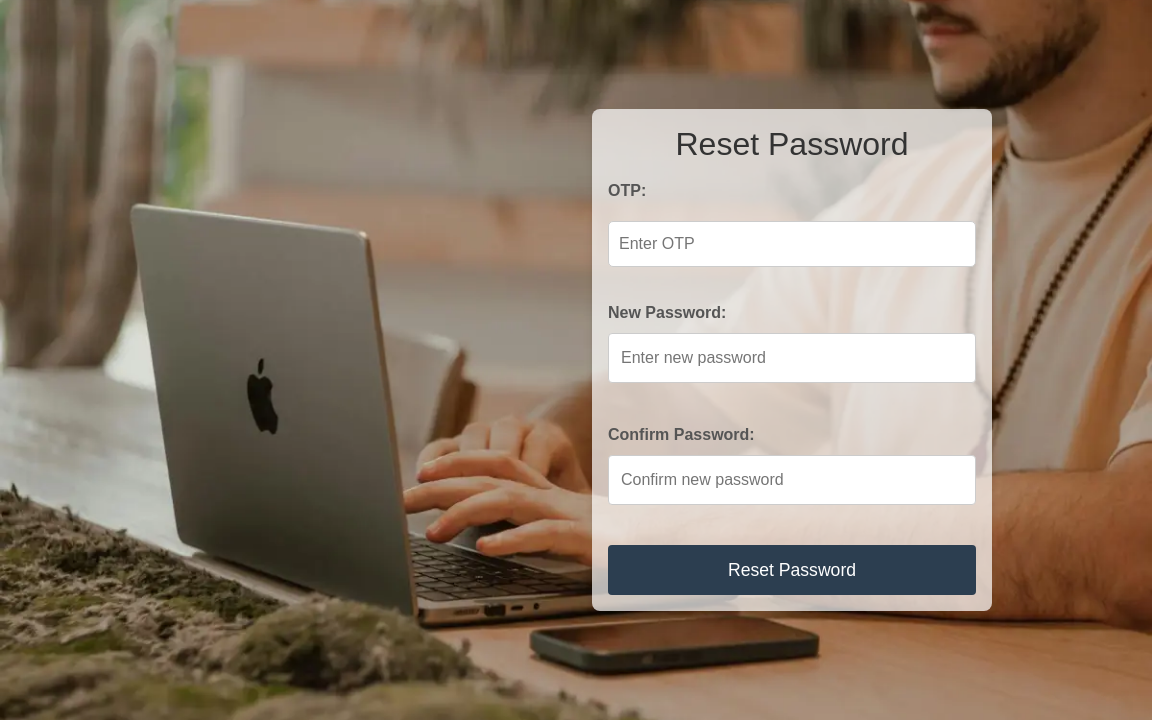
Test case: ResetPassword Component › should show error message for mismatched passwords
Type "12345" into the field with placeholder "Enter OTP" at (792, 244), box [608,221,976,267]
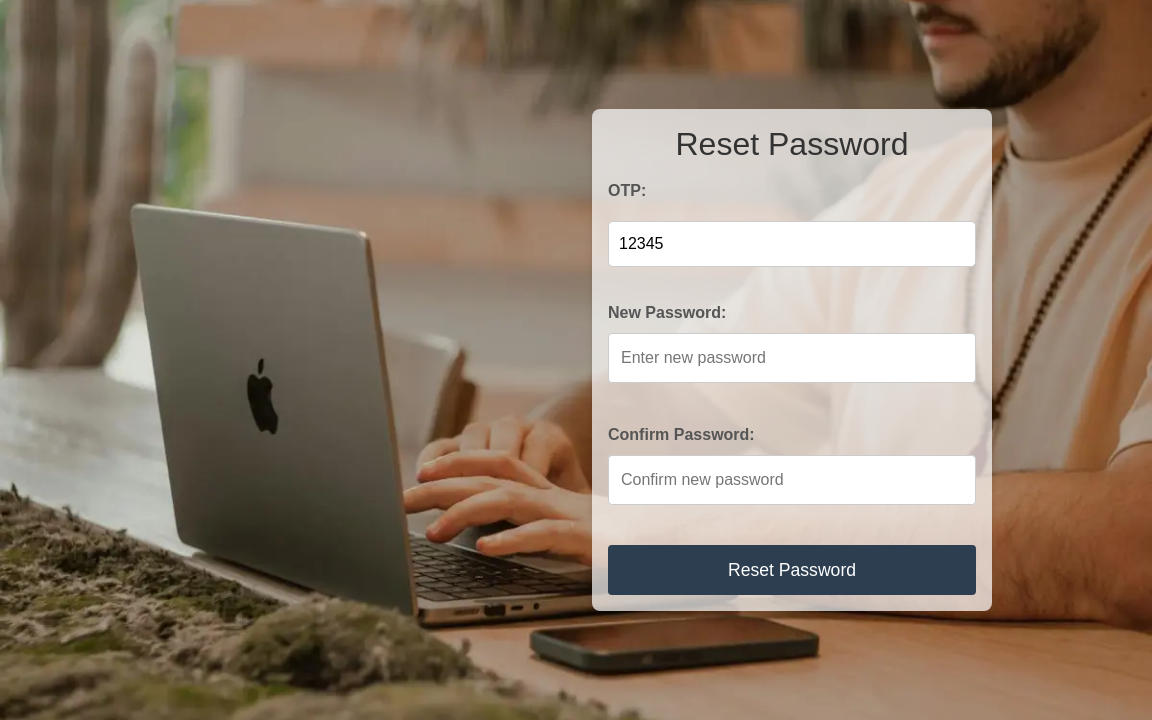
Type "NewPassword@123" into the password field with placeholder "Enter new password" at (792, 358), box [608,333,976,383]
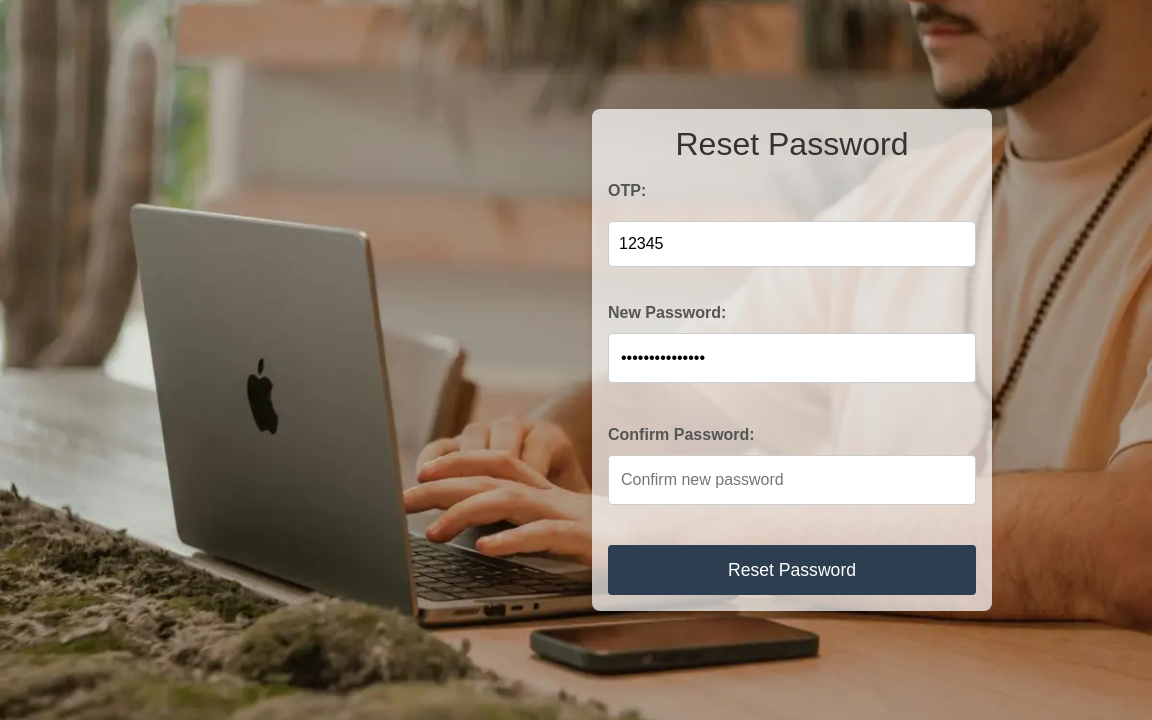
Type "NewPassword@124" into the password field with placeholder "Confirm new password" at (792, 480), box [608,455,976,505]
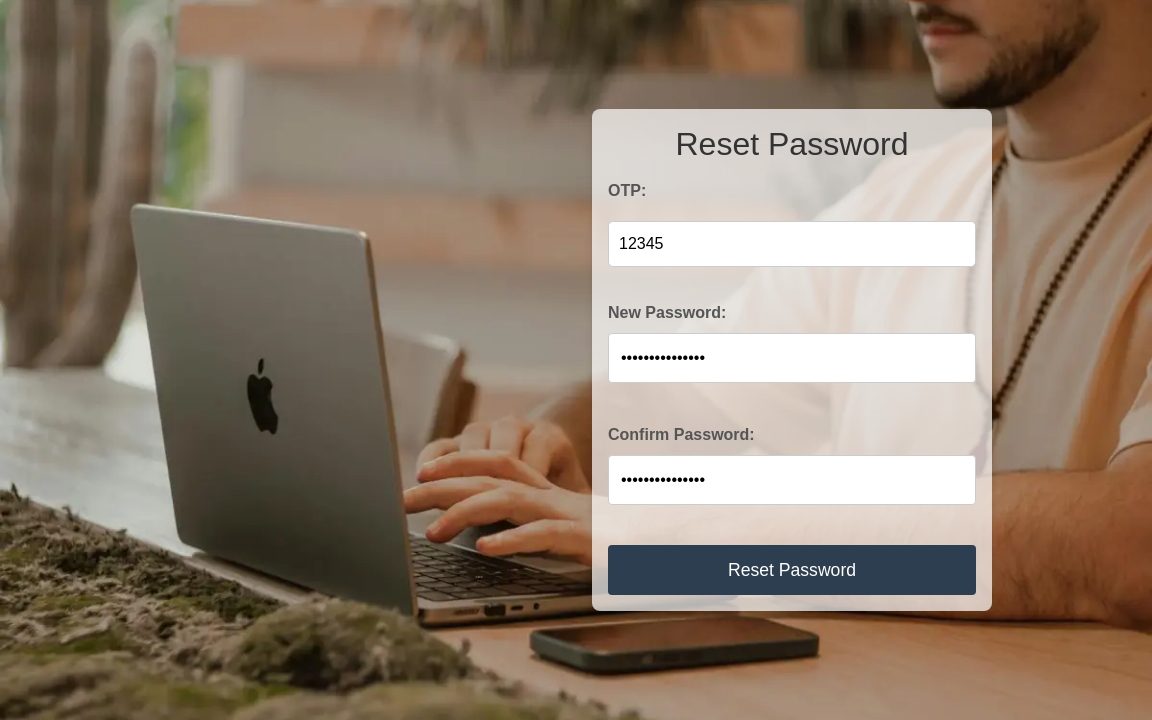
Click the button "Reset Password" at (792, 570), box [608,545,976,595]
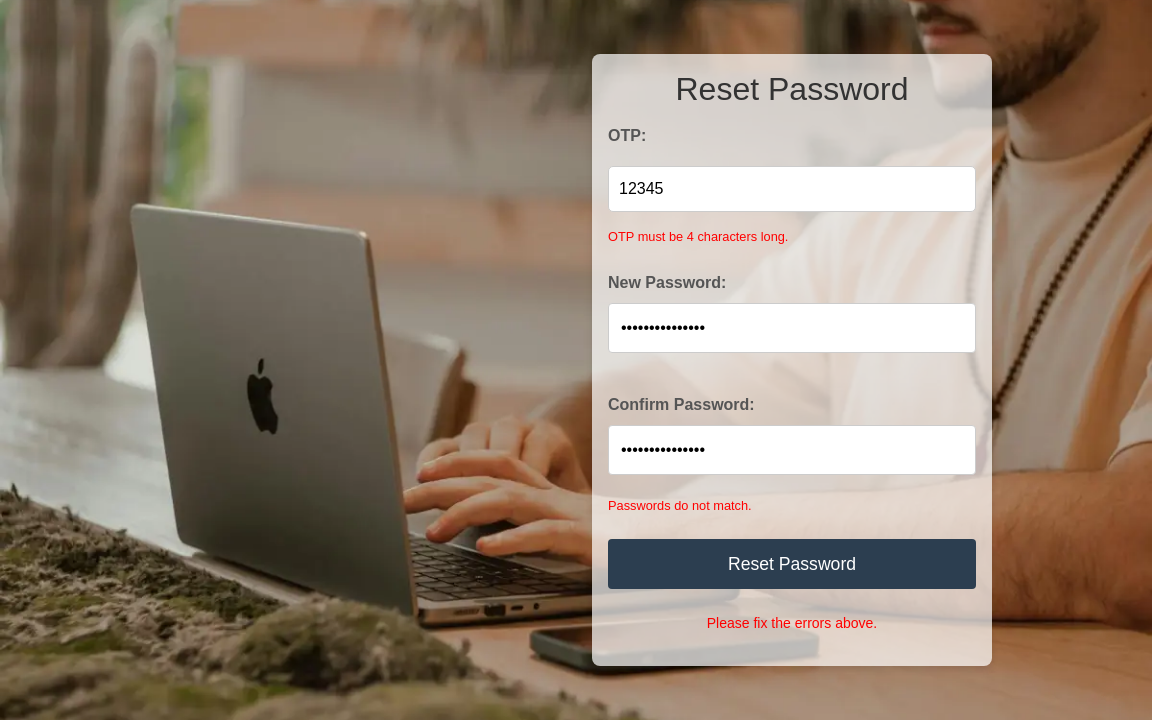
expect the text "Passwords do not match." is shown: met, box [608,498,752,512]
